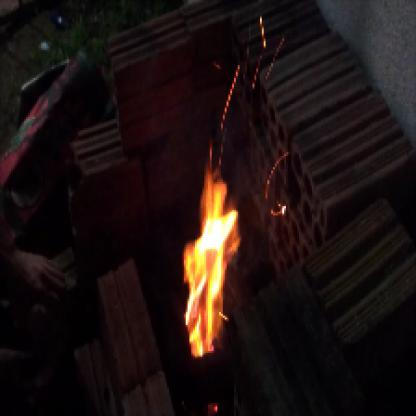Fire: (173, 150, 245, 358)
